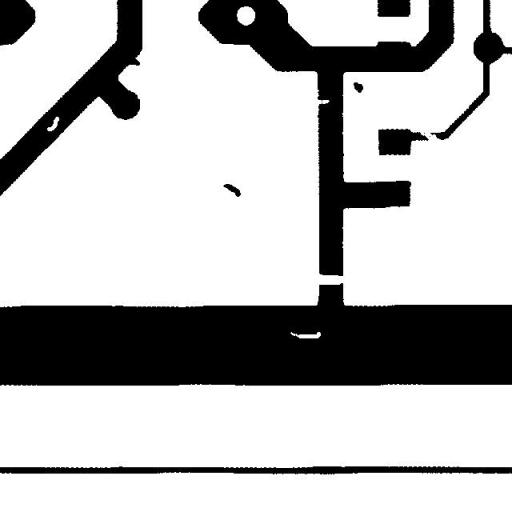copper: (215, 176, 248, 204), (346, 74, 370, 100)
mousebite: (306, 91, 336, 112)
open: (301, 262, 355, 292), (411, 120, 451, 150)
pin-hole: (282, 324, 328, 346), (40, 109, 66, 138)
spur: (118, 48, 147, 73)
